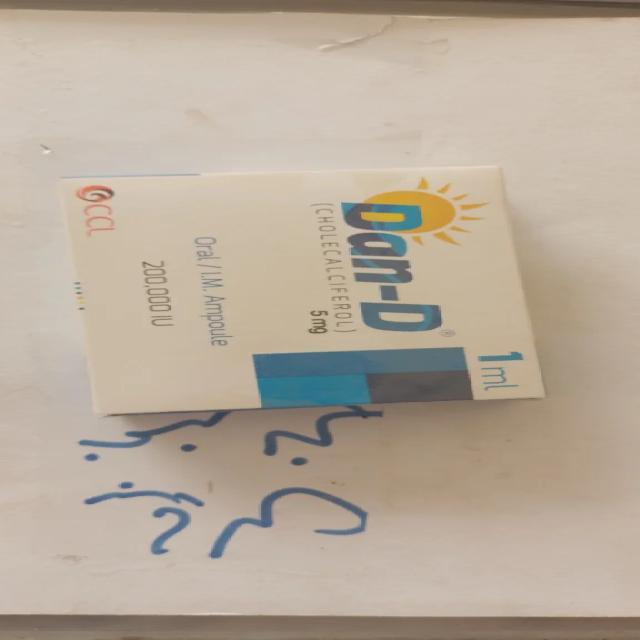drug-name: (339, 199, 451, 334)
